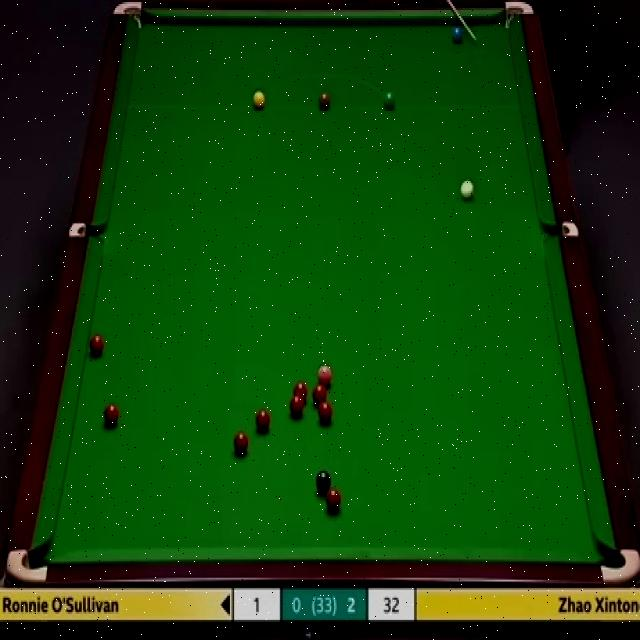black-ball: (315, 469, 332, 498)
blue-ball: (450, 22, 466, 47)
brown-ball: (318, 91, 331, 112)
green-ball: (382, 91, 397, 112)
pink-ball: (314, 363, 333, 387)
red-ball: (101, 400, 120, 430), (233, 432, 250, 459), (325, 488, 342, 513), (255, 408, 271, 432), (288, 395, 304, 419), (88, 333, 103, 358), (318, 401, 333, 424), (292, 381, 308, 402), (312, 385, 328, 404)
white-ball: (459, 177, 476, 201)
yellow-ball: (252, 90, 266, 111)
